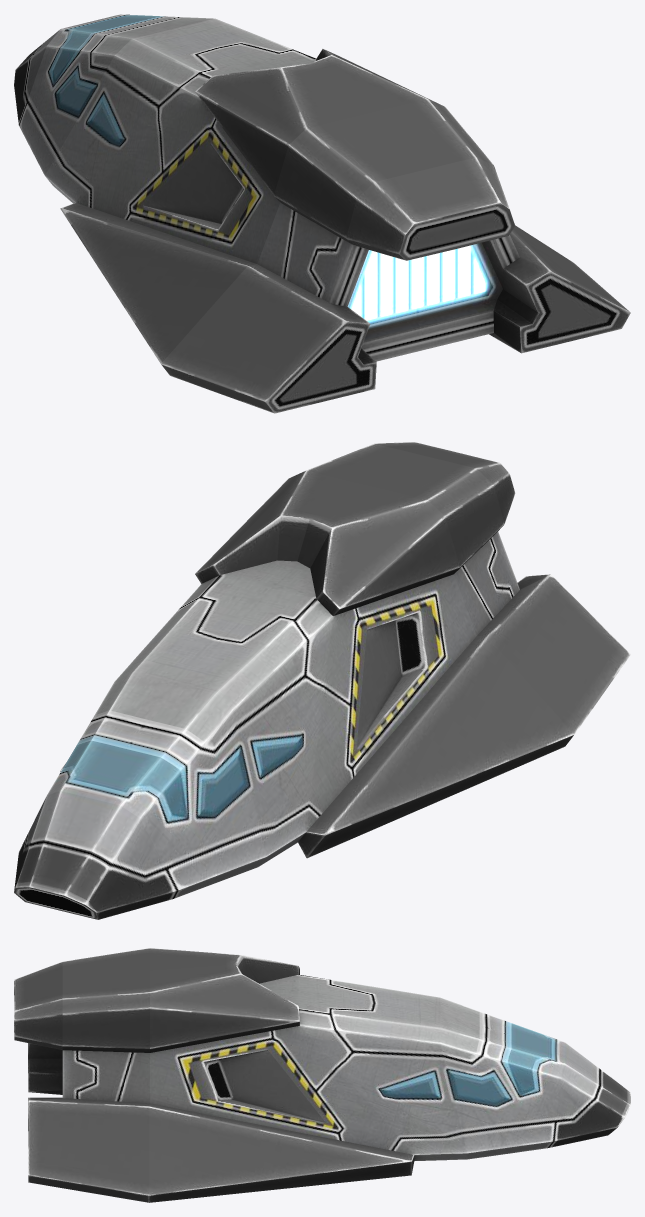
The model's file is shuttle.glb.
3 views of the same model, one above another, from view 1: azimuth 30°, elevation 25°; view 2: azimuth 150°, elevation 25°; view 3: azimuth 270°, elevation 25° (orthographic). The views are drawn at different scales.
Visible parts, largest first — view 1: SpaceShuttle_AM1; view 2: SpaceShuttle_AM1; view 3: SpaceShuttle_AM1.
Part boxes in pixels (x1,y1,x2,y2): SpaceShuttle_AM1: [14, 14, 630, 413]; SpaceShuttle_AM1: [14, 442, 630, 919]; SpaceShuttle_AM1: [14, 948, 630, 1202].
Bounding box in the file's own units: 2.43 × 1.27 × 4.19.
1 material, 1 textured.
